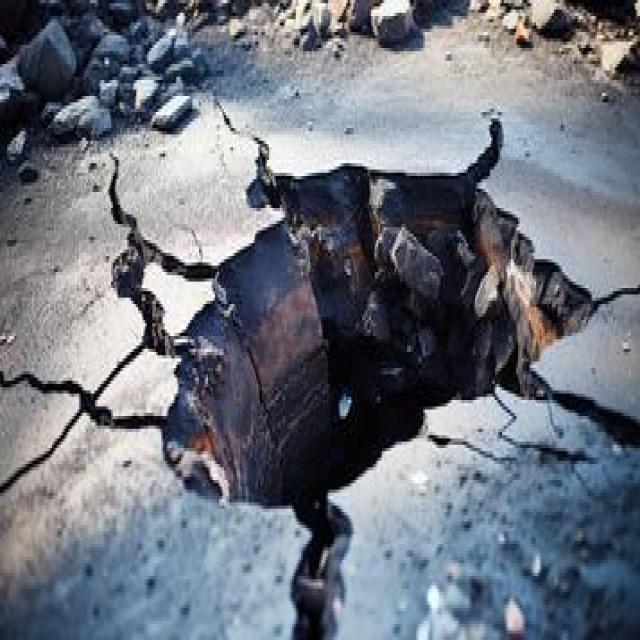road collapse: (79, 112, 635, 640)
